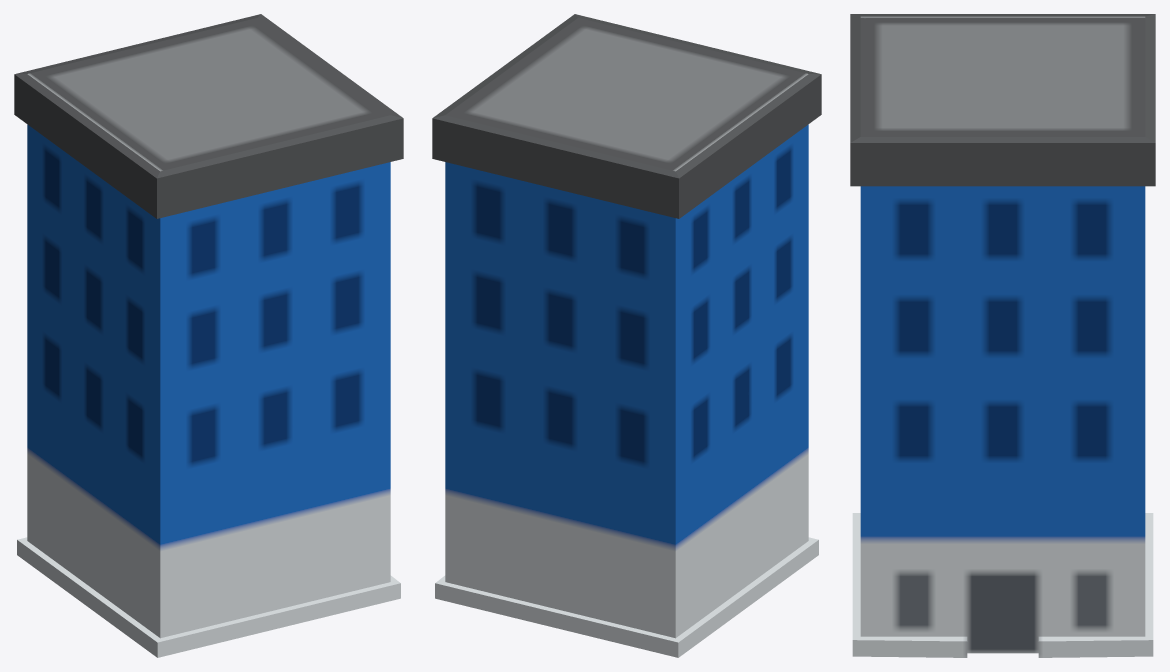
Rendered from building-small.fbx.
3 renders of one model, left to right at view 1: azimuth 30°, elevation 25°; view 2: azimuth 150°, elevation 25°; view 3: azimuth 270°, elevation 25°, orthographic. The views are drawn at different scales.
Visible parts, largest first — view 1: Small; view 2: Small; view 3: Small.
Part boxes in pixels (x1,y1,x2,y2): Small: (14, 14, 403, 657); Small: (432, 14, 821, 657); Small: (850, 14, 1155, 657).
Bounding box in the file's own units: 215 × 400 × 214.
